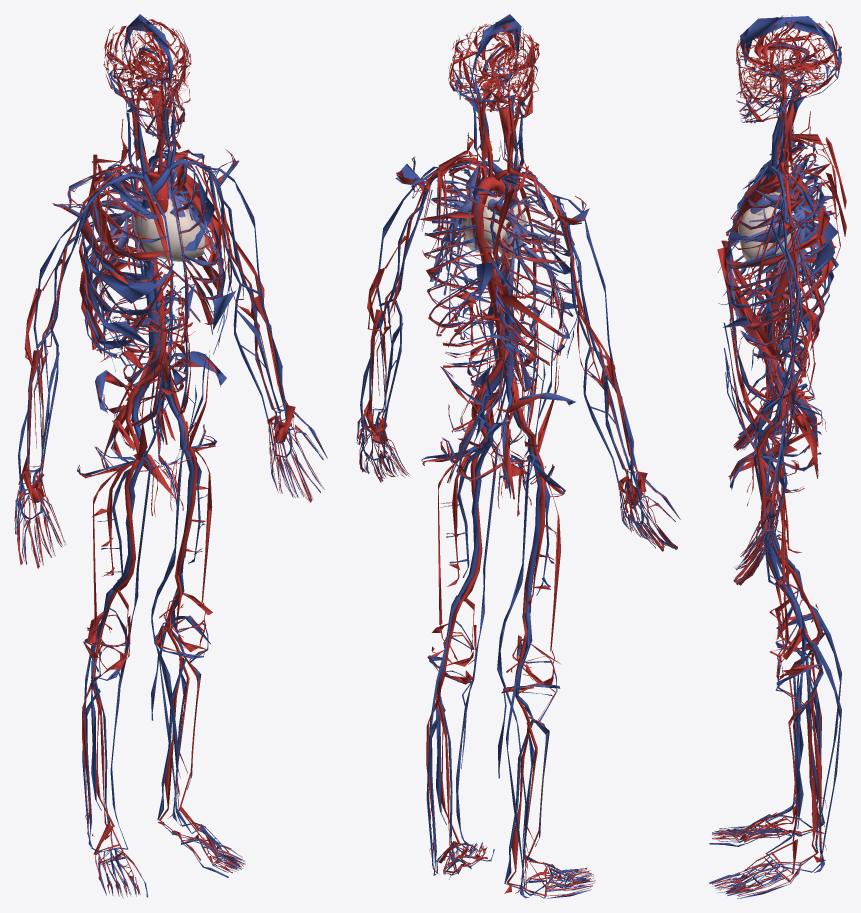
Rendered from adult_male.cardiovascular.LOD4.glb.
3 views of the same model, side by side, from view 1: azimuth 30°, elevation 25°; view 2: azimuth 150°, elevation 25°; view 3: azimuth 270°, elevation 25° (orthographic). The views are drawn at different scales.
Parts seen in each view (by area): view 1: ADULT.MALE.CARDIOVASCULAR.RIGHT_SUPERIOR_INTERCOSTAL_VEIN, ADULT.MALE.CARDIOVASCULAR.POSTERIOR_INTERCOSTAL_ARTERIES.R, ADULT.MALE.CARDIOVASCULAR.PERICARDIUM, ADULT.MALE.CARDIOVASCULAR.LEFT_SUPERIOR_INTERCOSTAL_VEIN, ADULT.MALE.CARDIOVASCULAR.POSTERIOR_INTERCOSTAL_ARTERIES.L, ADULT.MALE.CARDIOVASCULAR.GREAT_SAPHENOUS_VEIN.L, ADULT.MALE.CARDIOVASCULAR.GREAT_SAPHENOUS_VEIN.R, ADULT.MALE.CARDIOVASCULAR.LATERAL_THORACIC_VEIN.R, ADULT.MALE.CARDIOVASCULAR.FEMORAL_ARTERY.R, ADULT.MALE.CARDIOVASCULAR.CEPHALIC_VEIN.R, ADULT.MALE.CARDIOVASCULAR.SUPERIOR_SAGITTAL_SINUS, ADULT.MALE.CARDIOVASCULAR.FEMORAL_ARTERY.L (+6 smaller); view 2: ADULT.MALE.CARDIOVASCULAR.POSTERIOR_INTERCOSTAL_ARTERIES.R, ADULT.MALE.CARDIOVASCULAR.RIGHT_SUPERIOR_INTERCOSTAL_VEIN, ADULT.MALE.CARDIOVASCULAR.POSTERIOR_INTERCOSTAL_ARTERIES.L, ADULT.MALE.CARDIOVASCULAR.GREAT_SAPHENOUS_VEIN.R, ADULT.MALE.CARDIOVASCULAR.LEFT_SUPERIOR_INTERCOSTAL_VEIN, ADULT.MALE.CARDIOVASCULAR.GREAT_SAPHENOUS_VEIN.L, ADULT.MALE.CARDIOVASCULAR.PERICARDIUM, ADULT.MALE.CARDIOVASCULAR.FEMORAL_VEIN.L, ADULT.MALE.CARDIOVASCULAR.CEPHALIC_VEIN.R, ADULT.MALE.CARDIOVASCULAR.SUPERIOR_SAGITTAL_SINUS, ADULT.MALE.CARDIOVASCULAR.FEMORAL_VEIN.R, ADULT.MALE.CARDIOVASCULAR.BASILIC_VEIN.R (+5 smaller); view 3: ADULT.MALE.CARDIOVASCULAR.LEFT_SUPERIOR_INTERCOSTAL_VEIN, ADULT.MALE.CARDIOVASCULAR.POSTERIOR_INTERCOSTAL_ARTERIES.L, ADULT.MALE.CARDIOVASCULAR.SUPERIOR_SAGITTAL_SINUS, ADULT.MALE.CARDIOVASCULAR.PERICARDIUM, ADULT.MALE.CARDIOVASCULAR.MUSCULOPHRENIC_ARTERY.L, ADULT.MALE.CARDIOVASCULAR.CEPHALIC_VEIN.L, ADULT.MALE.CARDIOVASCULAR.GREAT_SAPHENOUS_VEIN.L, ADULT.MALE.CARDIOVASCULAR.SMALL_SAPHENOUS_VEIN.L, ADULT.MALE.CARDIOVASCULAR.SMALL_SAPHENOUS_VEIN.R, ADULT.MALE.CARDIOVASCULAR.RIGHT_SUPERIOR_INTERCOSTAL_VEIN, ADULT.MALE.CARDIOVASCULAR.GREAT_SAPHENOUS_VEIN.R, ADULT.MALE.CARDIOVASCULAR.POSTERIOR_TIBIAL_ARTERY.L (+29 smaller).
Part boxes in pixels (left/top/right/bottom): ADULT.MALE.CARDIOVASCULAR.RIGHT_SUPERIOR_INTERCOSTAL_VEIN: left=81, top=159, right=172, bottom=358; ADULT.MALE.CARDIOVASCULAR.POSTERIOR_INTERCOSTAL_ARTERIES.R: left=79, top=167, right=170, bottom=358; ADULT.MALE.CARDIOVASCULAR.PERICARDIUM: left=131, top=198, right=205, bottom=261; ADULT.MALE.CARDIOVASCULAR.LEFT_SUPERIOR_INTERCOSTAL_VEIN: left=141, top=149, right=225, bottom=333; ADULT.MALE.CARDIOVASCULAR.POSTERIOR_INTERCOSTAL_ARTERIES.L: left=150, top=162, right=223, bottom=334; ADULT.MALE.CARDIOVASCULAR.GREAT_SAPHENOUS_VEIN.L: left=151, top=449, right=191, bottom=833; ADULT.MALE.CARDIOVASCULAR.GREAT_SAPHENOUS_VEIN.R: left=110, top=459, right=151, bottom=848; ADULT.MALE.CARDIOVASCULAR.LATERAL_THORACIC_VEIN.R: left=93, top=194, right=152, bottom=373; ADULT.MALE.CARDIOVASCULAR.FEMORAL_ARTERY.R: left=114, top=433, right=141, bottom=591; ADULT.MALE.CARDIOVASCULAR.CEPHALIC_VEIN.R: left=18, top=190, right=100, bottom=491; ADULT.MALE.CARDIOVASCULAR.SUPERIOR_SAGITTAL_SINUS: left=123, top=14, right=173, bottom=86; ADULT.MALE.CARDIOVASCULAR.FEMORAL_ARTERY.L: left=175, top=421, right=197, bottom=577; ADULT.MALE.CARDIOVASCULAR.POSTERIOR_INTERCOSTAL_ARTERIES.R: left=476, top=192, right=572, bottom=365; ADULT.MALE.CARDIOVASCULAR.RIGHT_SUPERIOR_INTERCOSTAL_VEIN: left=491, top=175, right=575, bottom=360; ADULT.MALE.CARDIOVASCULAR.POSTERIOR_INTERCOSTAL_ARTERIES.L: left=418, top=184, right=500, bottom=336; ADULT.MALE.CARDIOVASCULAR.GREAT_SAPHENOUS_VEIN.R: left=497, top=460, right=537, bottom=861; ADULT.MALE.CARDIOVASCULAR.LEFT_SUPERIOR_INTERCOSTAL_VEIN: left=424, top=161, right=500, bottom=335; ADULT.MALE.CARDIOVASCULAR.GREAT_SAPHENOUS_VEIN.L: left=456, top=443, right=497, bottom=847; ADULT.MALE.CARDIOVASCULAR.PERICARDIUM: left=462, top=193, right=526, bottom=258; ADULT.MALE.CARDIOVASCULAR.FEMORAL_VEIN.L: left=457, top=426, right=493, bottom=597; ADULT.MALE.CARDIOVASCULAR.CEPHALIC_VEIN.R: left=551, top=194, right=641, bottom=500; ADULT.MALE.CARDIOVASCULAR.SUPERIOR_SAGITTAL_SINUS: left=469, top=14, right=521, bottom=101; ADULT.MALE.CARDIOVASCULAR.FEMORAL_VEIN.R: left=525, top=438, right=541, bottom=613; ADULT.MALE.CARDIOVASCULAR.BASILIC_VEIN.R: left=570, top=242, right=619, bottom=487; ADULT.MALE.CARDIOVASCULAR.LEFT_SUPERIOR_INTERCOSTAL_VEIN: left=726, top=164, right=838, bottom=358; ADULT.MALE.CARDIOVASCULAR.POSTERIOR_INTERCOSTAL_ARTERIES.L: left=726, top=187, right=834, bottom=360; ADULT.MALE.CARDIOVASCULAR.SUPERIOR_SAGITTAL_SINUS: left=740, top=16, right=838, bottom=77; ADULT.MALE.CARDIOVASCULAR.PERICARDIUM: left=737, top=191, right=799, bottom=265; ADULT.MALE.CARDIOVASCULAR.MUSCULOPHRENIC_ARTERY.L: left=717, top=247, right=784, bottom=362; ADULT.MALE.CARDIOVASCULAR.CEPHALIC_VEIN.L: left=771, top=197, right=794, bottom=519; ADULT.MALE.CARDIOVASCULAR.GREAT_SAPHENOUS_VEIN.L: left=753, top=454, right=819, bottom=853; ADULT.MALE.CARDIOVASCULAR.SMALL_SAPHENOUS_VEIN.L: left=801, top=641, right=841, bottom=872; ADULT.MALE.CARDIOVASCULAR.SMALL_SAPHENOUS_VEIN.R: left=800, top=604, right=841, bottom=828; ADULT.MALE.CARDIOVASCULAR.RIGHT_SUPERIOR_INTERCOSTAL_VEIN: left=725, top=144, right=832, bottom=309; ADULT.MALE.CARDIOVASCULAR.GREAT_SAPHENOUS_VEIN.R: left=753, top=433, right=818, bottom=822; ADULT.MALE.CARDIOVASCULAR.POSTERIOR_TIBIAL_ARTERY.L: left=801, top=702, right=818, bottom=862.
Size of the model in its own units: 0.6635 by 1.7 by 0.2496.
